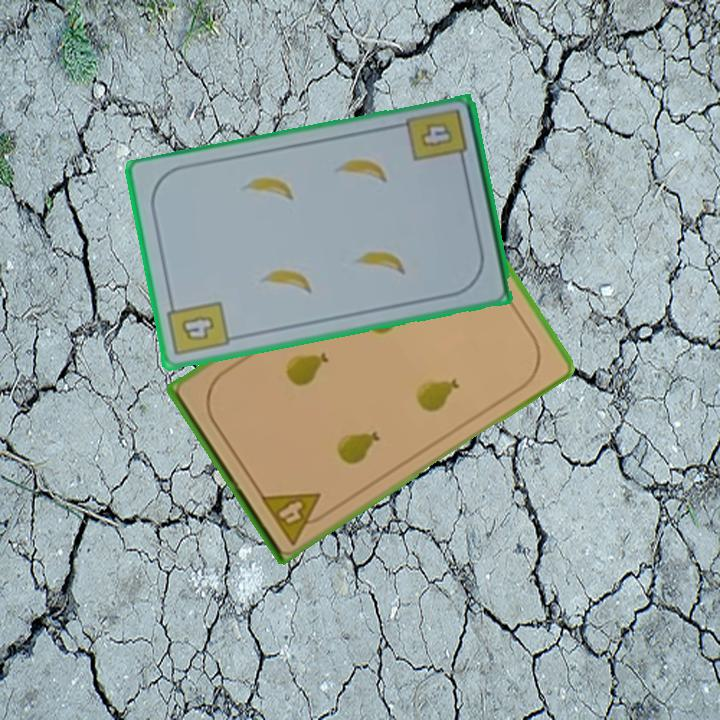4b: (164, 296, 232, 360), (404, 106, 471, 170)
4p: (256, 488, 333, 548)
